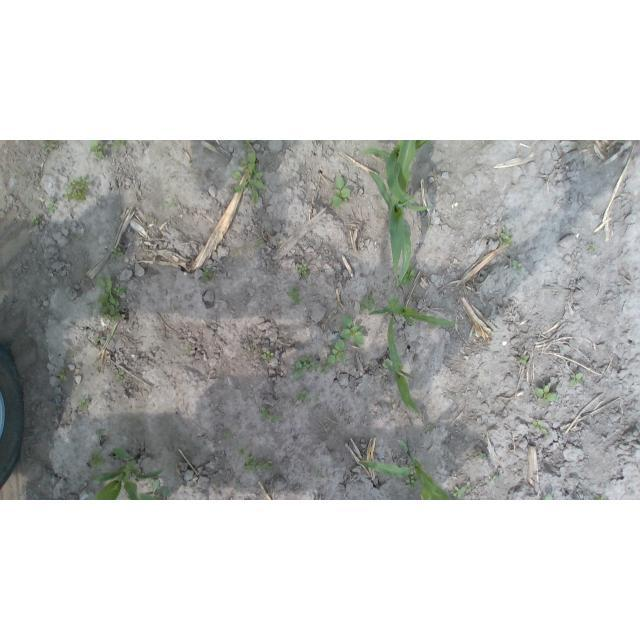Maize: (367, 297, 459, 418), (368, 141, 413, 288), (358, 440, 450, 500), (363, 140, 429, 212), (94, 448, 164, 500)
Weeds: (233, 153, 266, 205), (96, 274, 126, 316), (339, 316, 366, 345), (61, 176, 87, 202), (326, 339, 346, 367), (332, 177, 350, 208), (534, 383, 558, 403), (89, 140, 109, 158), (152, 480, 168, 500), (360, 293, 376, 311), (287, 286, 301, 306), (300, 355, 316, 371), (89, 453, 105, 468), (292, 361, 304, 380), (534, 421, 547, 435), (297, 262, 308, 278), (406, 476, 419, 489), (570, 373, 584, 385), (42, 140, 58, 150), (451, 486, 463, 499), (163, 197, 177, 208), (499, 232, 510, 246), (261, 351, 275, 362), (246, 455, 255, 471), (405, 268, 414, 283), (516, 354, 529, 364), (81, 398, 91, 409), (32, 216, 43, 225), (57, 369, 66, 380), (113, 141, 127, 148), (260, 407, 268, 419), (263, 462, 273, 470), (113, 248, 123, 256), (47, 206, 58, 213), (204, 272, 212, 281), (299, 393, 307, 401), (93, 336, 100, 345), (245, 140, 252, 149), (481, 453, 490, 460), (237, 448, 244, 456), (116, 372, 124, 379), (513, 260, 520, 268), (545, 493, 553, 500), (271, 415, 278, 423), (320, 368, 328, 375), (96, 429, 104, 435), (464, 480, 470, 488), (256, 461, 261, 470), (224, 431, 230, 437), (589, 244, 595, 250), (429, 425, 434, 430)
